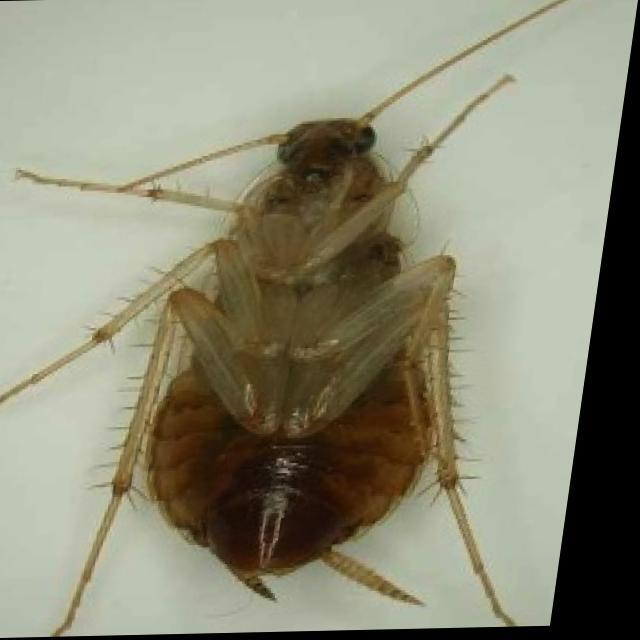cockroach: (3, 9, 565, 632)
